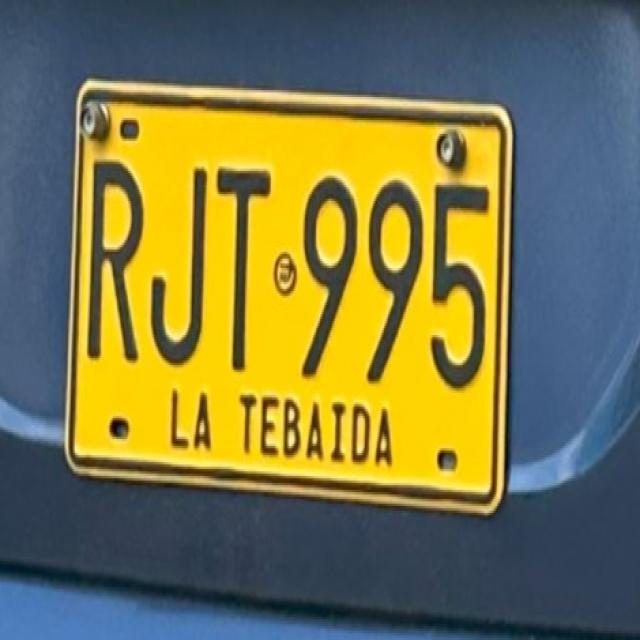number plate: (64, 79, 509, 508)
